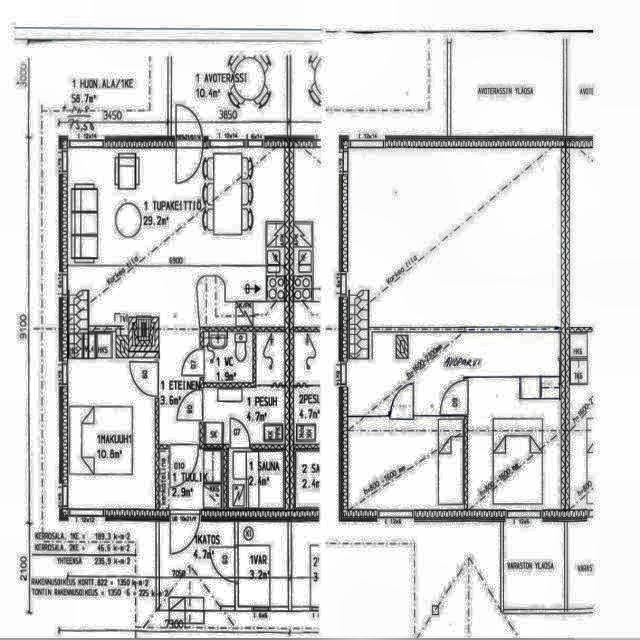room: (465, 377, 561, 510), (348, 416, 464, 509), (204, 333, 285, 444), (160, 450, 221, 508), (229, 452, 283, 506), (204, 332, 252, 381)
